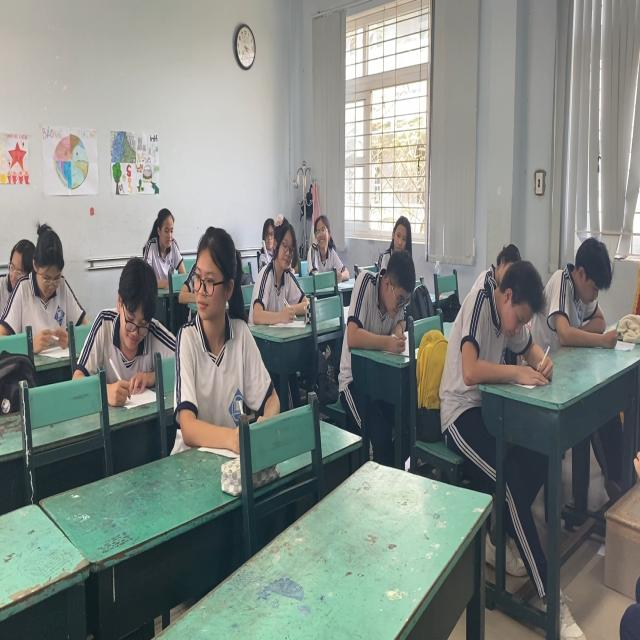cheating: (178, 216, 257, 427)
not_cheating: (96, 257, 181, 395), (465, 250, 547, 385), (545, 219, 631, 347), (8, 219, 80, 344), (251, 212, 310, 323), (354, 254, 413, 346), (142, 196, 187, 282), (310, 212, 350, 284), (378, 206, 417, 270)
